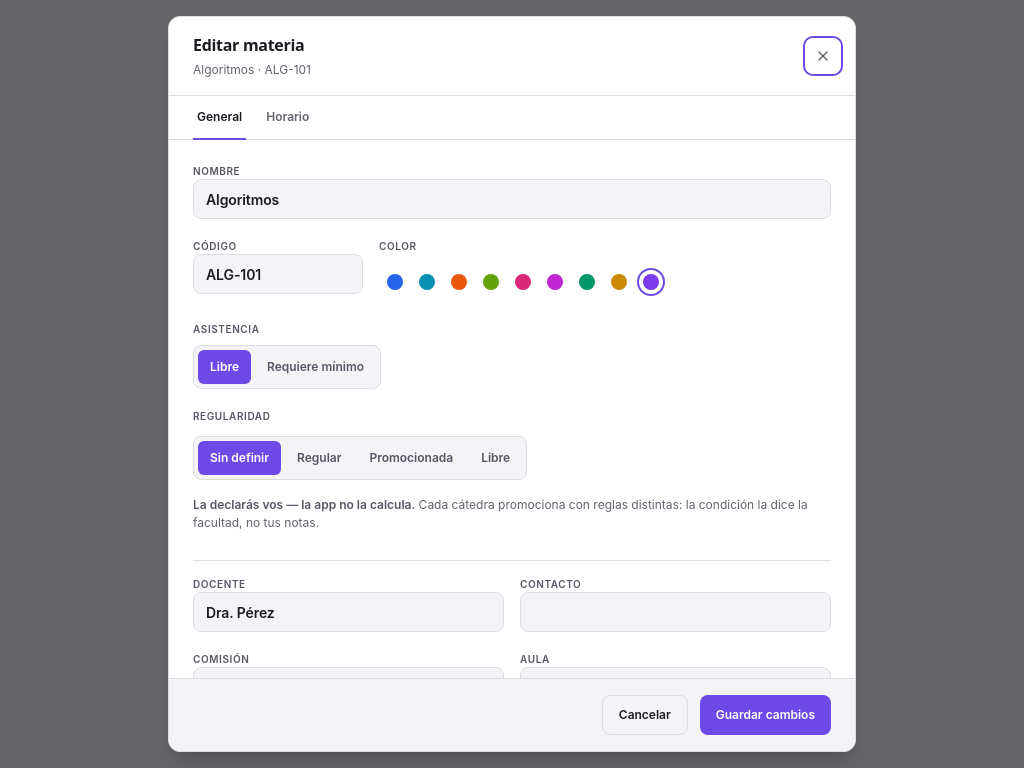
Scenario: EditarMateriaModal › errors on a hidden tab › says what is wrong even when the bad field is on the other tab
Clear the field labelled "NOMBRE". click: (512, 199)
box: [193, 179, 831, 219]
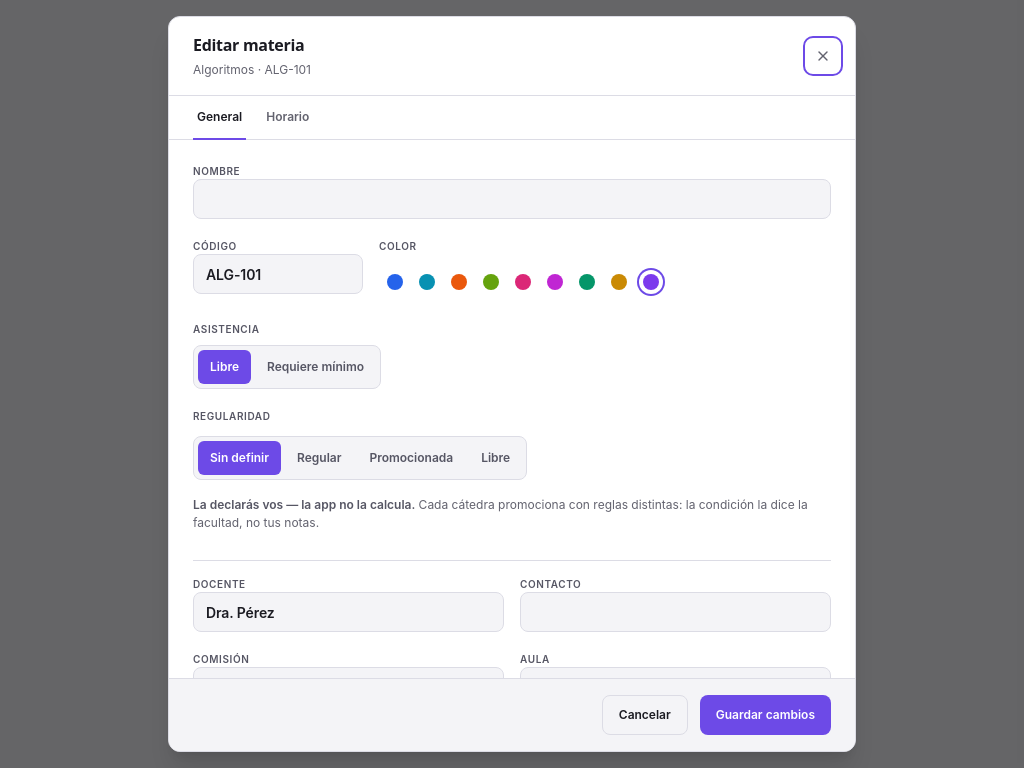
Click the tab "Horario". click: (288, 118)
box: [262, 96, 313, 140]
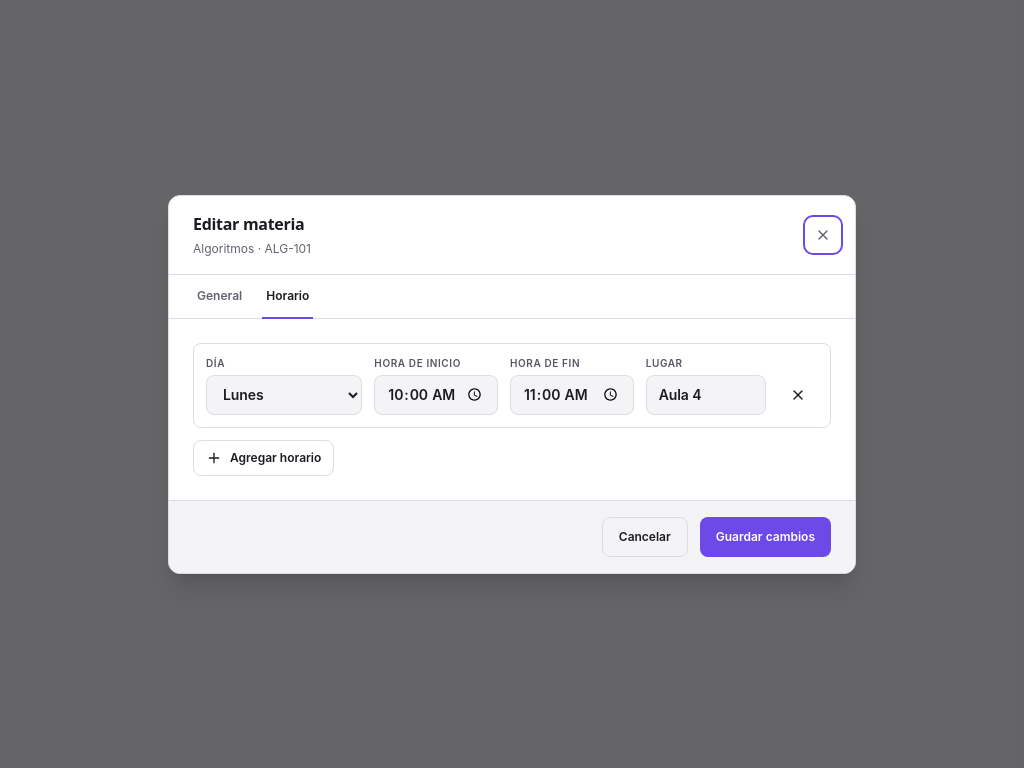
Click the button "Guardar cambios". click: (765, 536)
box: [700, 516, 831, 556]
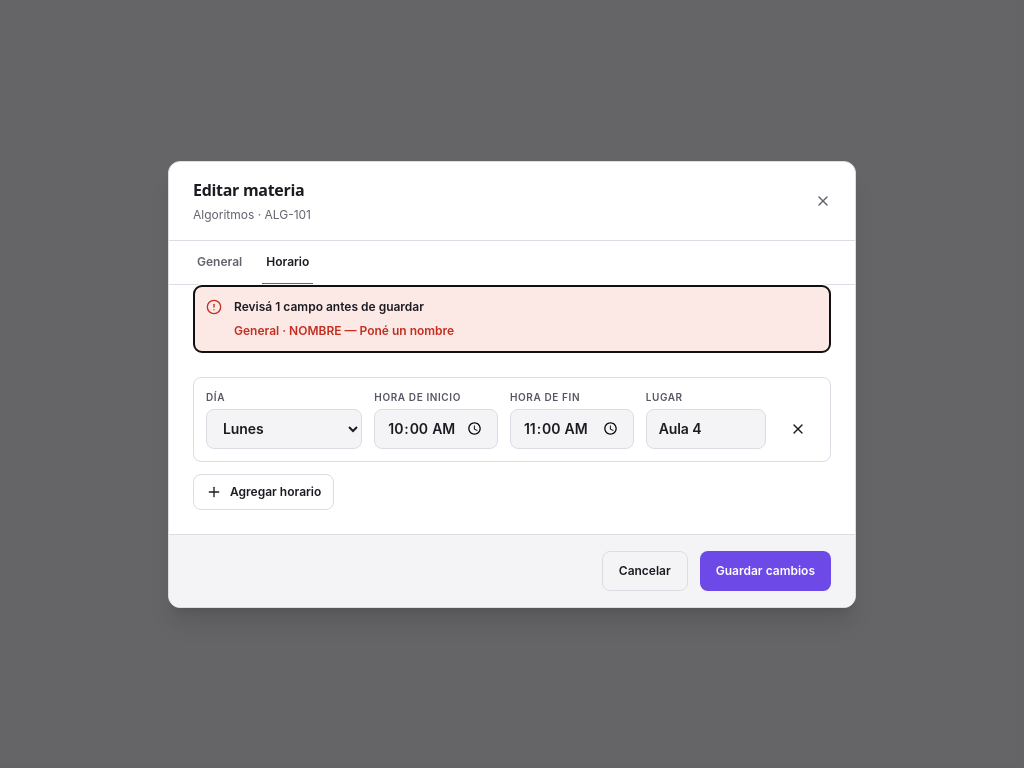
Check: the message shows "Revisá 1 campo antes de guardar", box [234, 298, 424, 314]
Check: the message shows "General · NOMBRE — Poné un nombre", box [234, 322, 454, 340]
